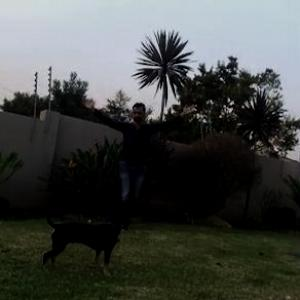takeoff: (84, 99, 202, 222)
